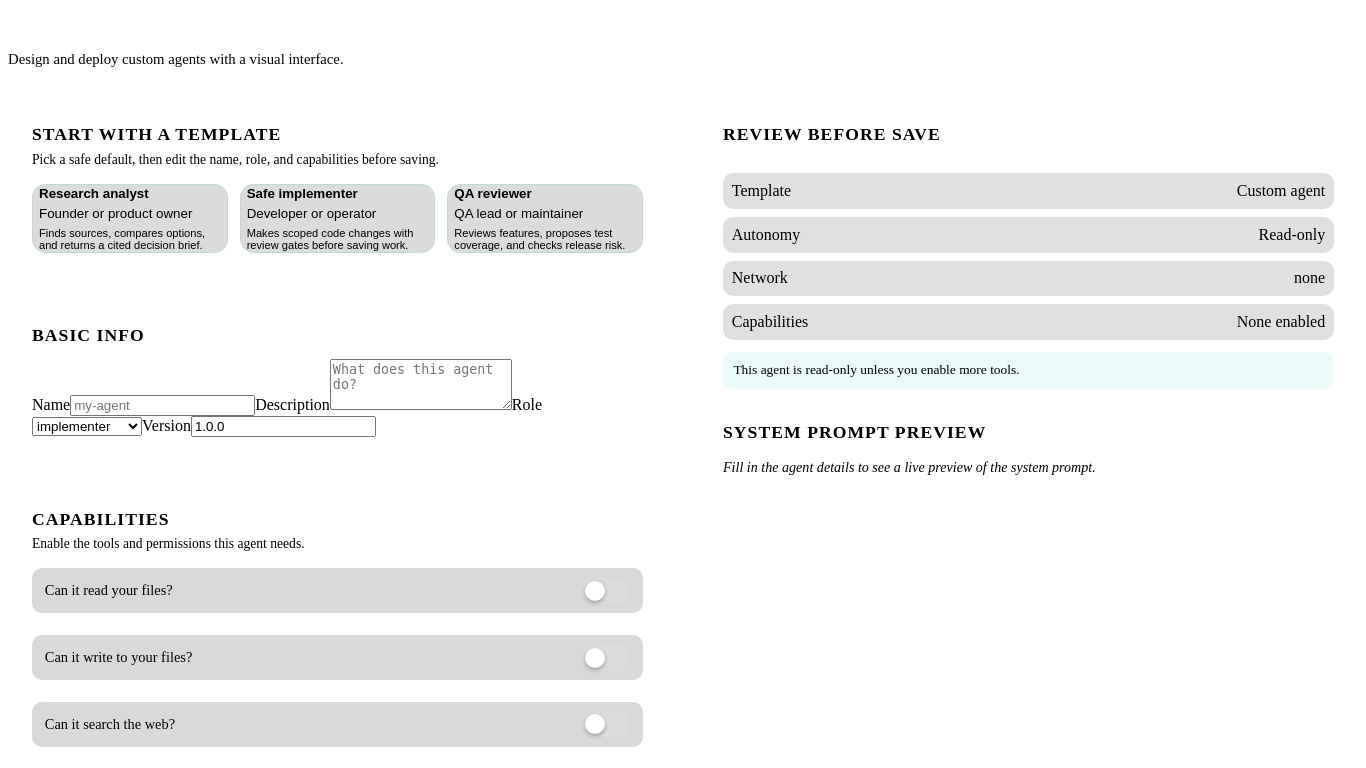
Scenario: AgentBuilderPage › displays the system prompt preview text
This screenshot has width=1366, height=768.
Type "demo-agent" into the field with placeholder "my-agent" at (163, 405), box [70,395,255,416]
Wait 600 ms
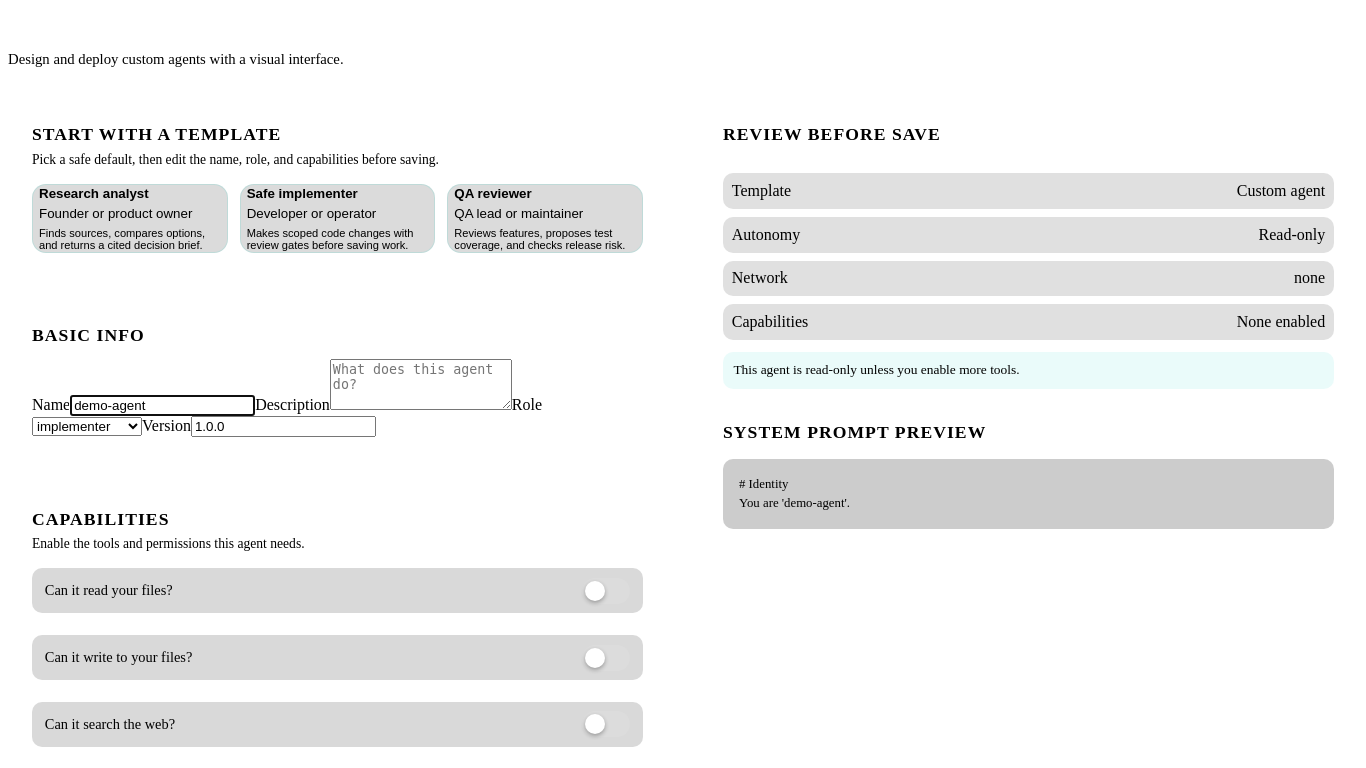
Expected: the text "# Identity You are 'demo-agent'." is shown, [723,458,1334,529]
